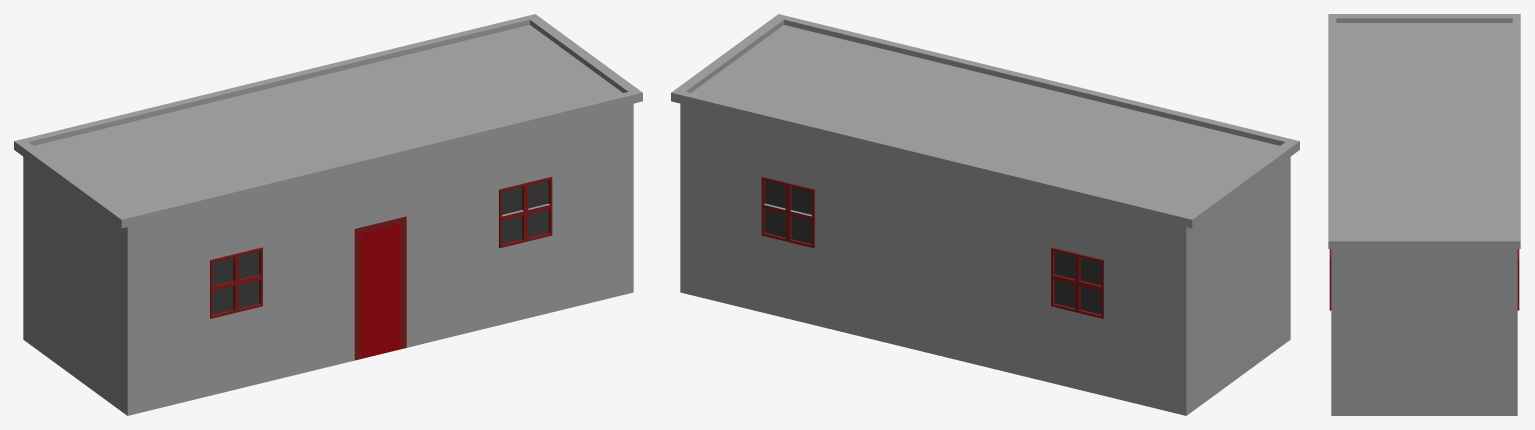
File: barrack_construction.fbx
3 views of the same model, side by side, from view 1: azimuth 30°, elevation 25°; view 2: azimuth 150°, elevation 25°; view 3: azimuth 270°, elevation 25° (orthographic). The views are drawn at different scales.
Parts seen in each view (by area): view 1: barrack.001; view 2: barrack.001; view 3: barrack.001.
Part boxes in pixels (<box>): barrack.001: <box>14,14,642,415</box>; barrack.001: <box>671,14,1299,415</box>; barrack.001: <box>1328,14,1520,415</box>.
Bounding box in the file's own units: 721 × 263 × 257.
